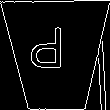P_S: (37, 30, 75, 81)
